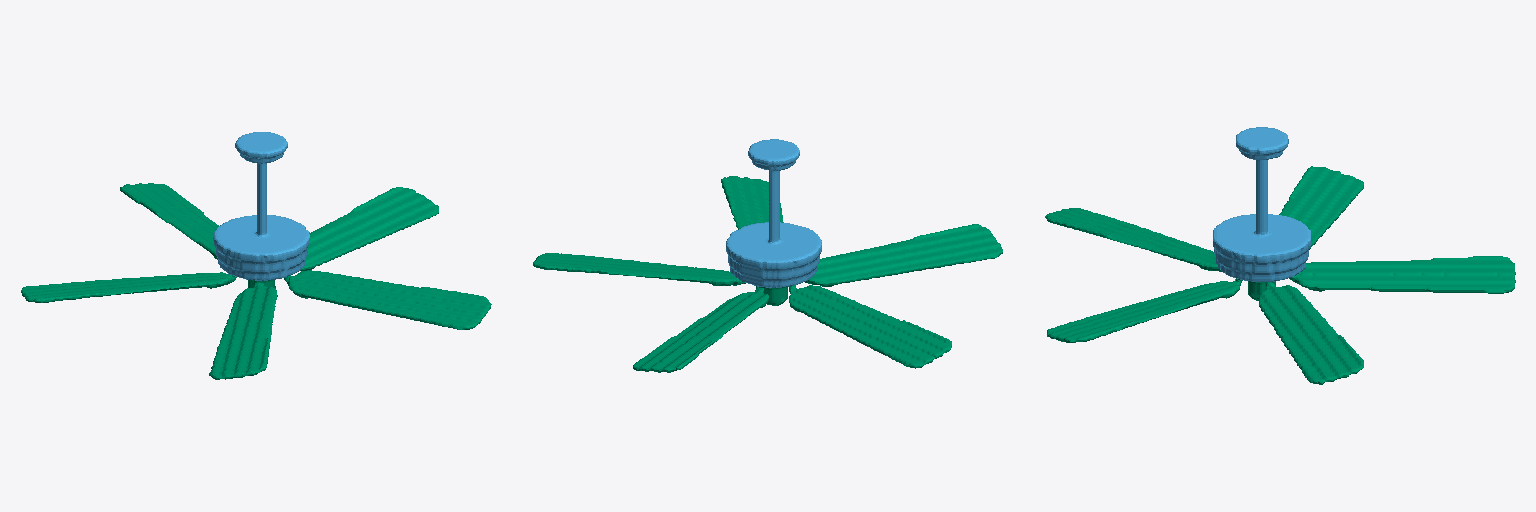
URDF robot description (object):
<?xml version='1.0' encoding='utf-8'?>
<robot name="object">
  <link name="base">
    <inertial>
      <origin xyz="0 0 0" rpy="0 0 0" />
      <mass value="0.0" />
      <inertia ixx="0" ixy="0" ixz="0" iyy="0" iyz="0" izz="0" />
    </inertial>
  </link>
  <link name="link_1">
    <visual>
      <origin xyz="0 0 0" rpy="0 0 0" />
      <geometry>
        <mesh filename="meshes/link_1.stl" />
      </geometry>
    </visual>
    <collision>
      <origin xyz="0 0 0" rpy="0 0 0" />
      <geometry>
        <mesh filename="meshes/link_1.stl" />
      </geometry>
    </collision>
    <inertial>
      <origin xyz="-0.00562610613 -0.0109209988 0.123337106" rpy="0 0 0" />
      <mass value="18.8375897" />
      <inertia ixx="0.42657286" ixy="-3.84298538e-05" ixz="0.000780871686" iyy="0.428464216" iyz="-0.000304597316" izz="0.297299971" />
    </inertial>
  </link>
  <link name="link_2">
    <visual>
      <origin xyz="0.00328444165 0.00916661979 0.0151429573" rpy="0 0 0" />
      <geometry>
        <mesh filename="meshes/link_2.stl" />
      </geometry>
    </visual>
    <collision>
      <origin xyz="0.00328444165 0.00916661979 0.0151429573" rpy="0 0 0" />
      <geometry>
        <mesh filename="meshes/link_2.stl" />
      </geometry>
    </collision>
    <inertial>
      <origin xyz="-0.00260683056 -0.00483489709 -0.0348670214" rpy="0 0 0" />
      <mass value="18.0616104" />
      <inertia ixx="3.3150442" ixy="0.00285716741" ixz="-0.00043783408" iyy="3.30957906" iyz="6.11790581e-05" izz="6.61332862" />
    </inertial>
  </link>
  <joint name="joint_1_2" type="revolute">
    <parent link="link_1" />
    <child link="link_2" />
    <origin xyz="-0.00328444165 -0.00916661979 -0.0151429573" rpy="0 0 0" />
    <axis xyz="4.52097097e-06 -0.000226545341 0.999999974" />
    <limit lower="-1.57" upper="1.57" effort="10.0" velocity="1.0" />
  </joint>
  <joint name="base_to_1" type="fixed">
    <parent link="base" />
    <child link="link_1" />
    <origin xyz="0 0 0" rpy="0 0 0" />
  </joint>
</robot>

--- Facts derived from the render (not from the file) ---
Views: 3 orthographic renders of the robot side by side, from view 1: azimuth 30°, elevation 25°; view 2: azimuth 150°, elevation 25°; view 3: azimuth 270°, elevation 25°.
Robot: object — 3 links, 2 joints (1 revolute, 1 fixed); root link base; default pose: every joint at zero.
Visible links, largest first — view 1: link_2, link_1; view 2: link_2, link_1; view 3: link_2, link_1.
Boxes of the visible links, x1,y1,x2,y2 form: link_2: (21,183,491,379); link_1: (213,132,309,280); link_2: (533,176,1002,372); link_1: (726,139,821,287); link_2: (1045,166,1515,384); link_1: (1213,127,1310,281).
Bounding box of the posed robot: 1.97 × 1.88 × 0.7143 m (x, y, z).
Meshes: 2 distinct files referenced, 2 mesh visuals loaded (2 binary STL).
